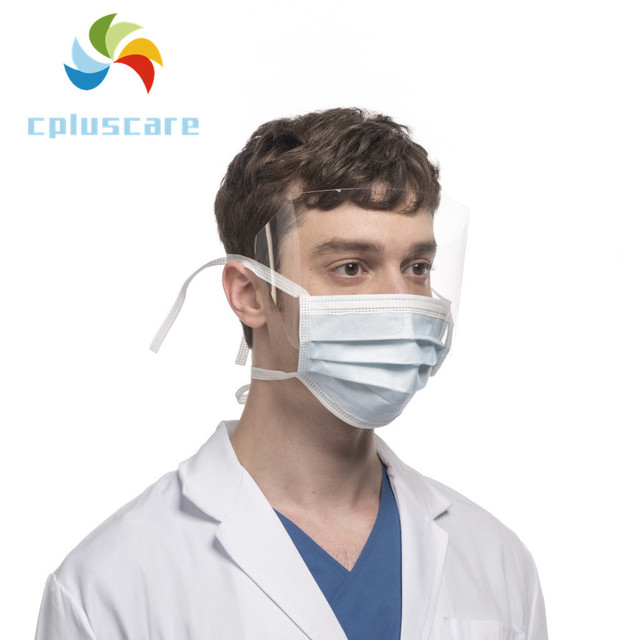mask: (310, 294, 457, 436)
